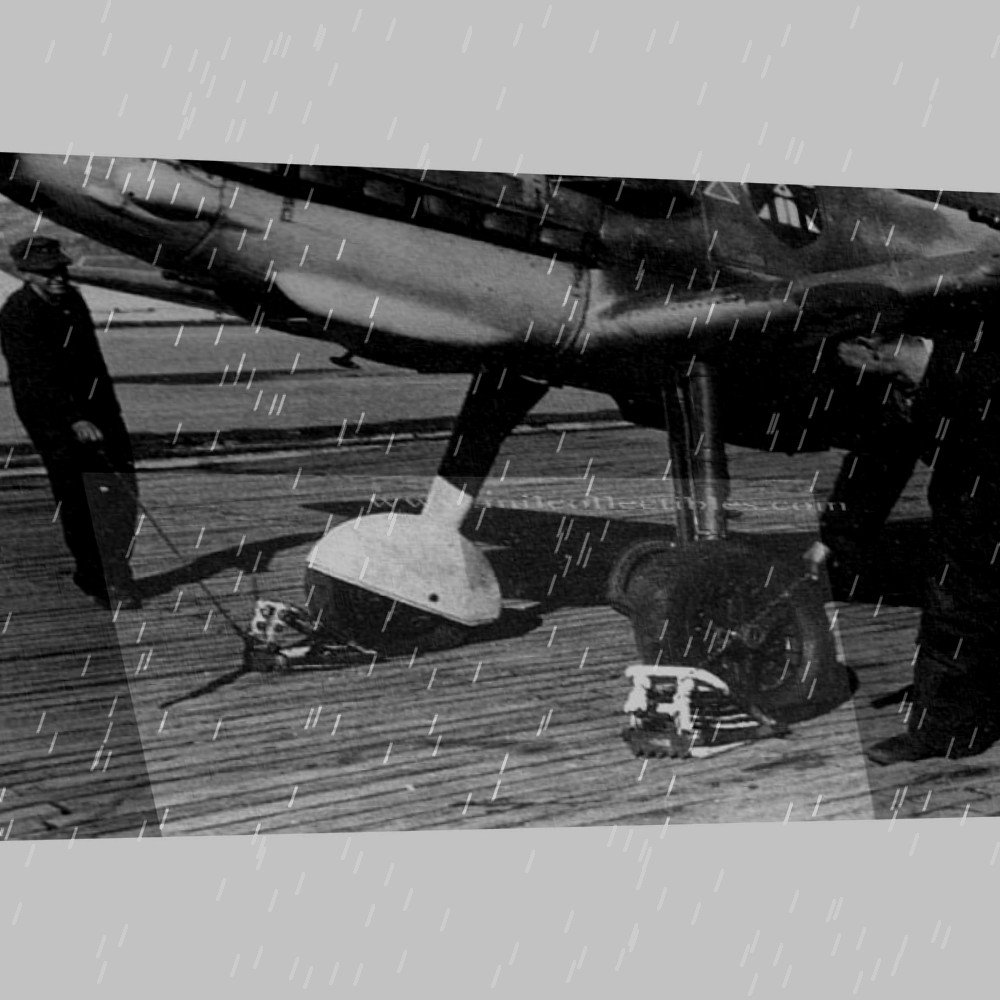chock: (606, 658, 802, 766), (219, 590, 384, 682)
wheel: (590, 536, 862, 726), (276, 501, 515, 654)
